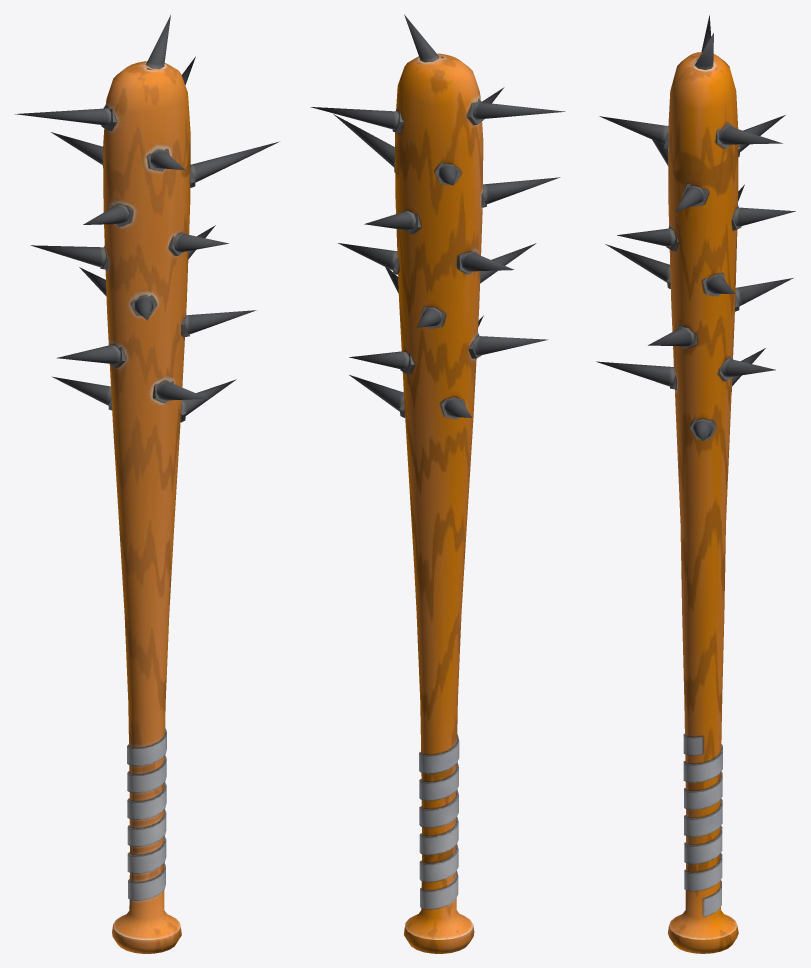
Rendered from 07_026_spiked_bat.glb.
3 renders of one model, left to right at view 1: azimuth 30°, elevation 25°; view 2: azimuth 150°, elevation 25°; view 3: azimuth 270°, elevation 25°, orthographic.
Parts seen in each view (by area): view 1: SpikedBat; view 2: SpikedBat; view 3: SpikedBat.
Part boxes in pixels (x1,y1,x2,y2): SpikedBat: (15, 15, 279, 953); SpikedBat: (310, 14, 565, 953); SpikedBat: (596, 15, 795, 953).
Bounding box in the file's own units: 0.1344 × 0.4741 × 0.0932.
Materials: 1 (1 with a texture image).
